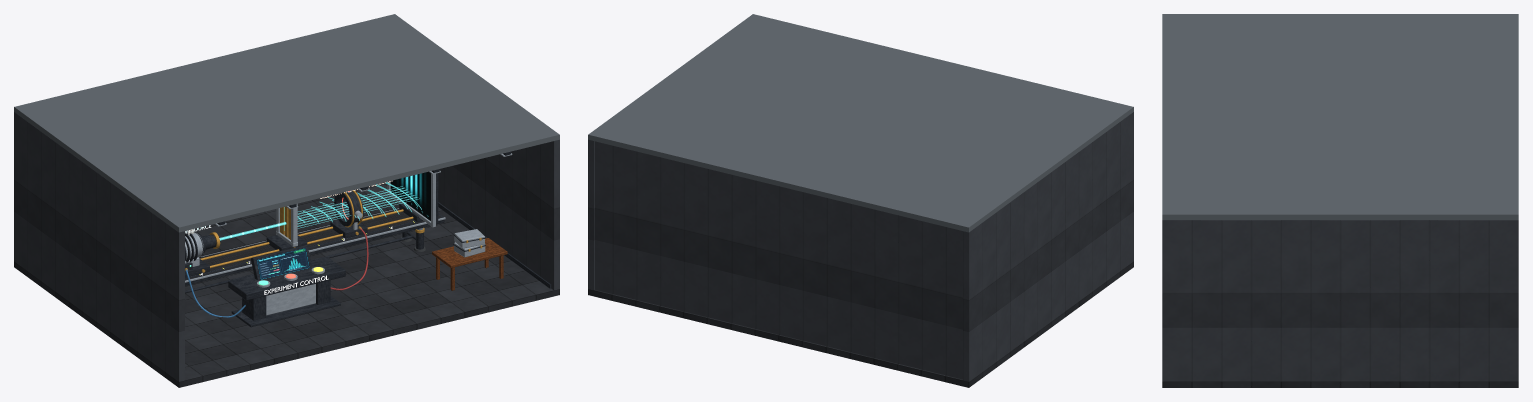
Rendered from YDSE1.glb.
The picture shows the model from 3 angles, left to right: view 1: azimuth 30°, elevation 25°; view 2: azimuth 150°, elevation 25°; view 3: azimuth 270°, elevation 25°; orthographic projection. The views are drawn at different scales.
Visible parts, largest first — view 1: LAB_Ceiling, LAB_Floor, LAB_LeftWall, LAB_RightWall, OpticalBench_BreadboardSurface, Console_Deck, Screen_PhosphorSurface, Console_OLEDScreen, OpticalBench_Frame, Console_CabinetPanel, SideTable_Top, Console_BasePlate (+6 smaller); view 2: LAB_Ceiling, LAB_BackWall, LAB_LeftWall, LAB_Floor, LAB_RightWall; view 3: LAB_Ceiling, LAB_RightWall, LAB_Floor.
Part boxes in pixels (<box>): LAB_Ceiling: <box>14,14,559,232</box>; LAB_Floor: <box>14,182,559,387</box>; LAB_LeftWall: <box>14,112,184,381</box>; LAB_RightWall: <box>438,139,559,290</box>; OpticalBench_BreadboardSurface: <box>185,209,441,279</box>; Console_Deck: <box>228,257,345,300</box>; Screen_PhosphorSurface: <box>390,171,430,220</box>; Console_OLEDScreen: <box>256,247,309,279</box>; OpticalBench_Frame: <box>185,209,444,285</box>; Console_CabinetPanel: <box>266,284,315,315</box>; SideTable_Top: <box>432,238,507,267</box>; Console_BasePlate: <box>231,296,340,327</box>; LAB_Ceiling: <box>588,14,1133,232</box>; LAB_BackWall: <box>595,141,962,379</box>; LAB_LeftWall: <box>963,112,1133,381</box>; LAB_Floor: <box>588,261,1133,387</box>; LAB_RightWall: <box>588,139,594,290</box>; LAB_Ceiling: <box>1162,14,1518,219</box>; LAB_RightWall: <box>1162,220,1518,381</box>; LAB_Floor: <box>1162,381,1518,387</box>.
Size of the model in its own units: 16.01 by 6.44 by 12.
27 materials, 11 textured.
